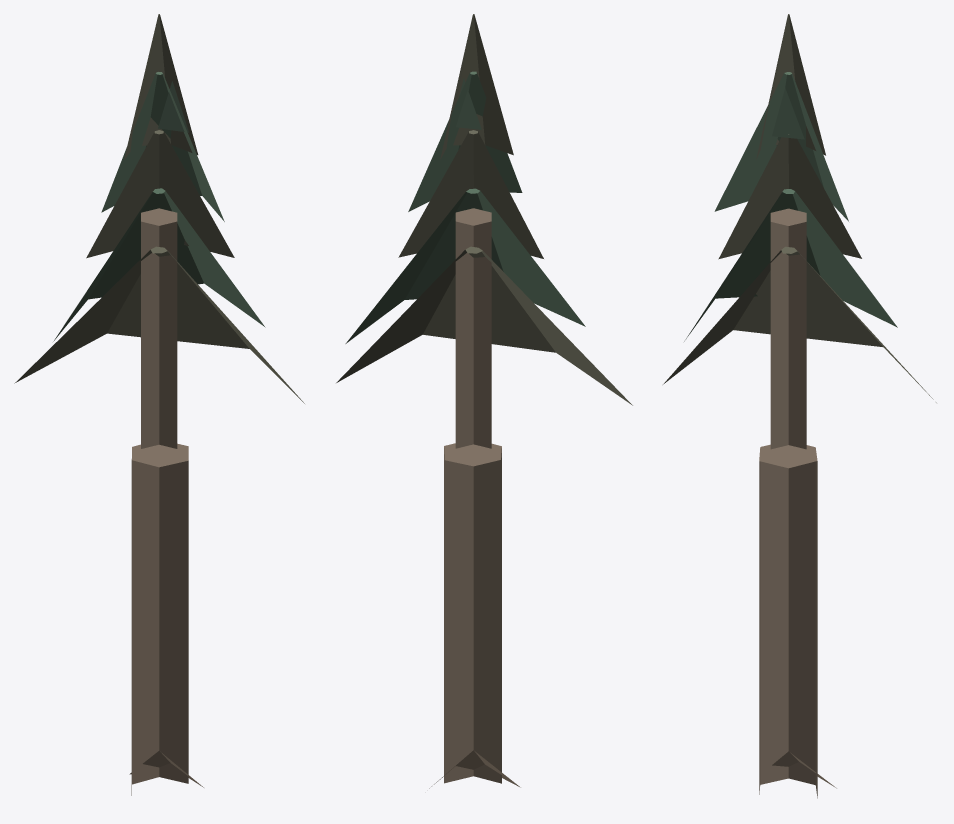
File: shu.hongpi__winter.glb
3 renders of one model, left to right at view 1: azimuth 30°, elevation 25°; view 2: azimuth 150°, elevation 25°; view 3: azimuth 270°, elevation 25°, orthographic.
Parts seen in each view (by area): view 1: shu.hongpi__winter; view 2: shu.hongpi__winter; view 3: shu.hongpi__winter.
Part boxes in pixels (<box>): shu.hongpi__winter: <box>14,14,304,795</box>; shu.hongpi__winter: <box>336,14,632,788</box>; shu.hongpi__winter: <box>663,14,936,798</box>.
Bounding box in the file's own units: 6.51 × 19.56 × 6.32.
